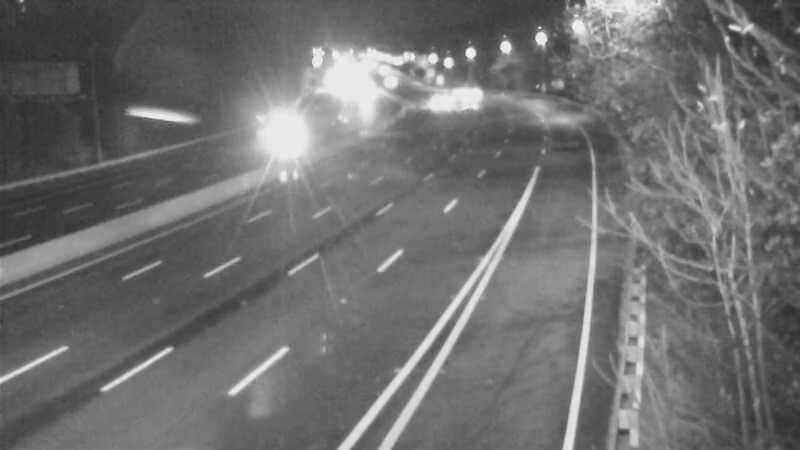vehicle: (365, 58, 415, 108), (448, 66, 498, 116), (404, 73, 454, 123), (434, 81, 484, 131), (265, 106, 315, 156)
